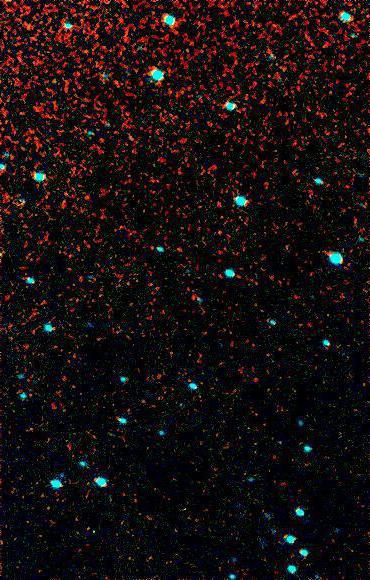star: (104, 68, 134, 98)
